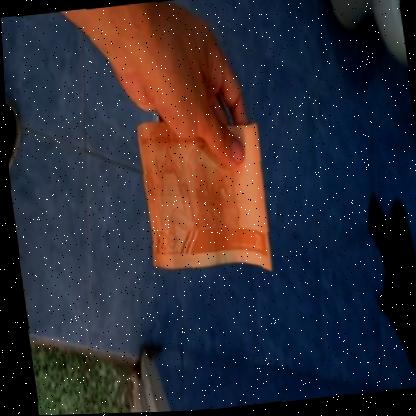twenty-back-vef: (131, 110, 275, 286)
